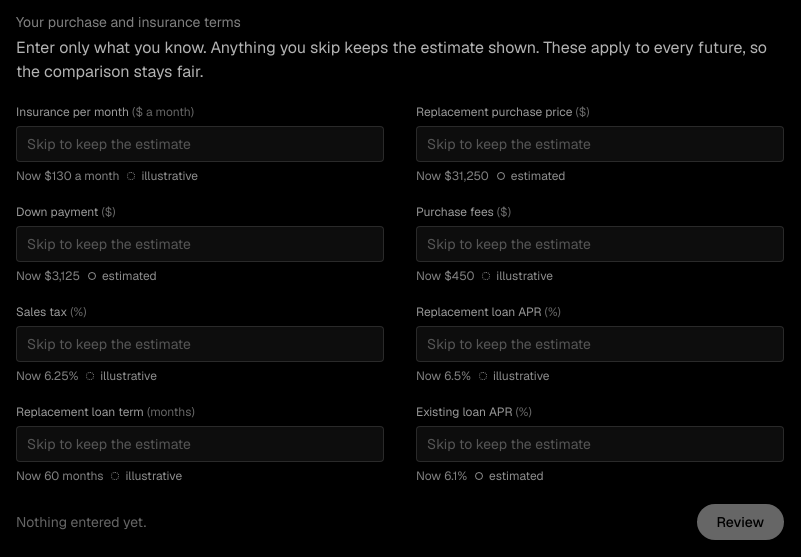
Test: AssumptionsReview: entering terms › names a box that is not a number, and does not move on
The image size is (801, 557).
Type "lots" into the field labelled "Insurance per month ($ a month)" at x=200, y=144, box [16,126,384,162]
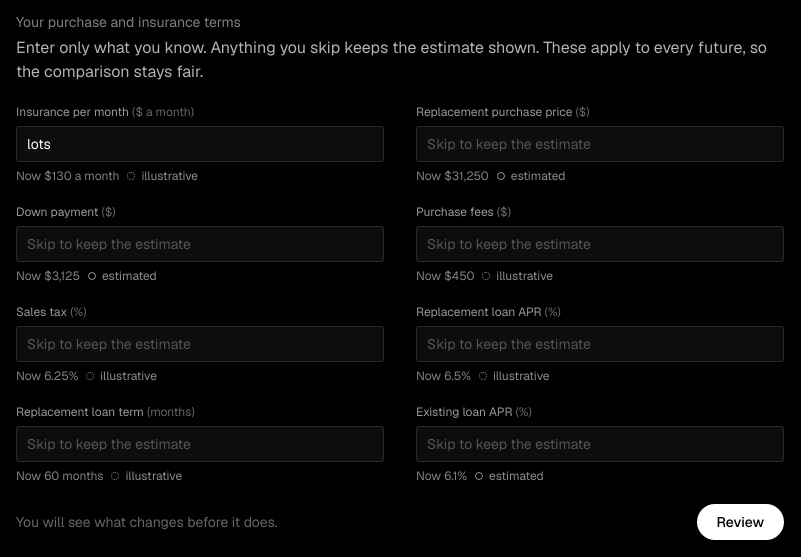
Click the button "Review" at x=740, y=522, box [696,504,784,540]
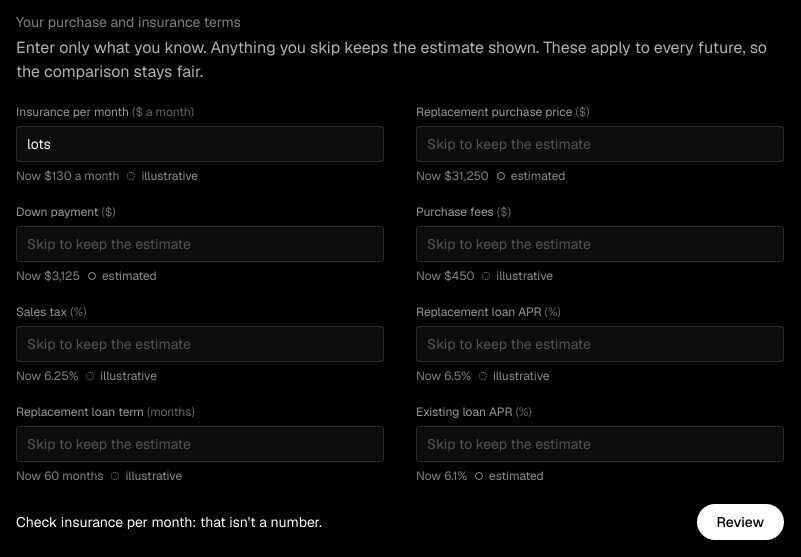
Result: the message with test id "terms-problem" shows "insurance per month: that isn't a number" at [16,513,322,531]
